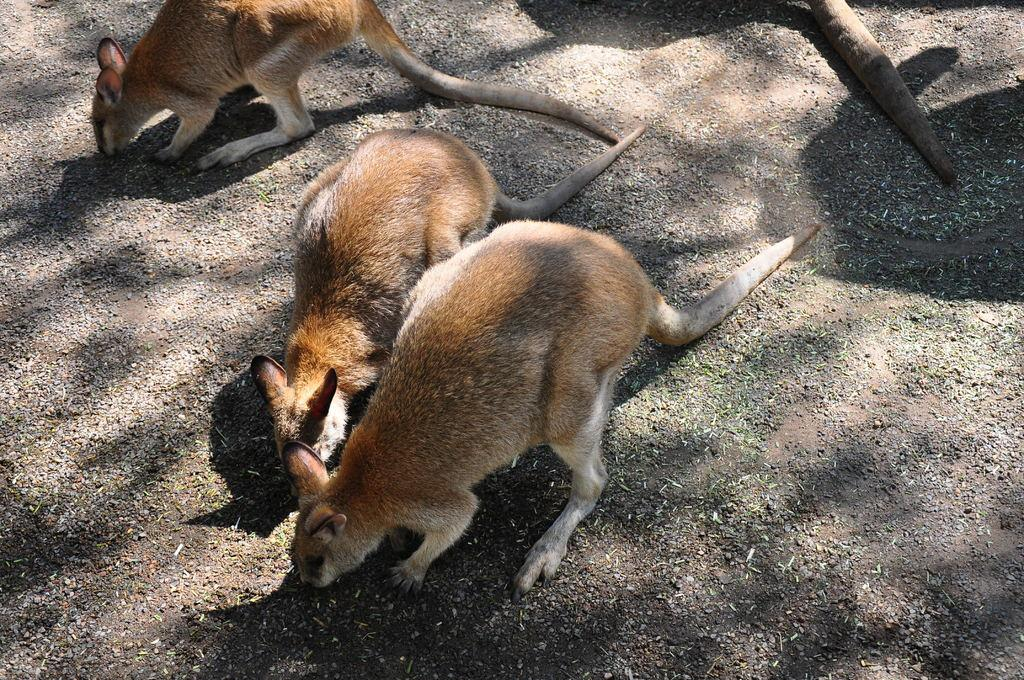kangaroo: (281, 222, 817, 594), (250, 121, 650, 511), (90, 0, 618, 176)
